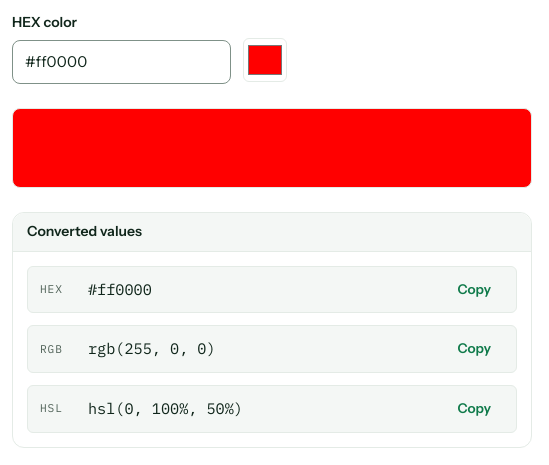
Test: ColorConverter › converts #00ff00 (green) correctly
Replace the text in the field with placeholder "#rrggbb or #rgb" with "#00ff00" at (122, 62), box [12,40,231,84]
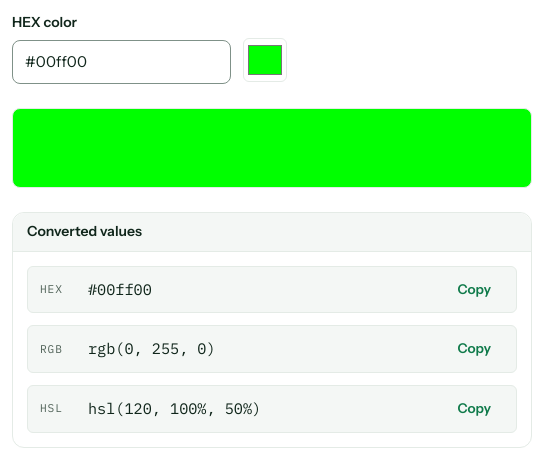
Result: the text "rgb(0, 255, 0)" is shown at [88,338,216,358]
Result: the text "hsl(120, 100%, 50%)" is shown at [88,398,261,418]
